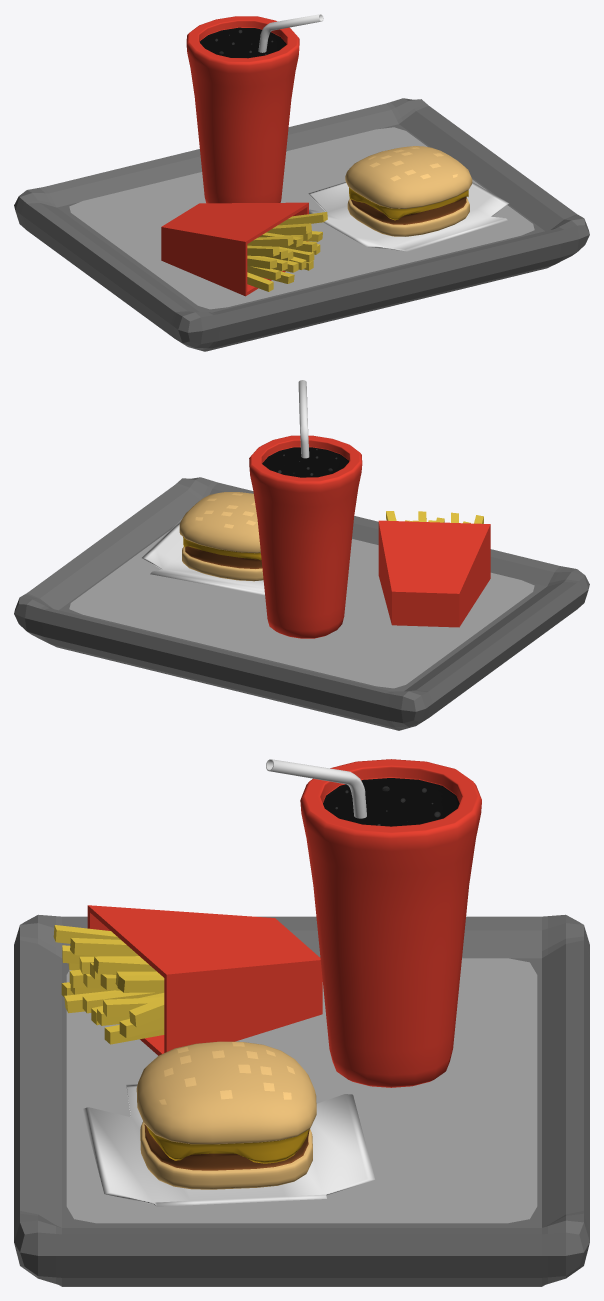
File: FastFood.fbx
The picture shows the model from 3 angles, top to bottom: view 1: azimuth 30°, elevation 25°; view 2: azimuth 150°, elevation 25°; view 3: azimuth 270°, elevation 25°; orthographic projection. The views are drawn at different scales.
Parts seen in each view (by area): view 1: Tray, Tray Paper, Cup, Fries, Burger, Burger Base; view 2: Tray, Tray Paper, Cup, Fries, Burger, Burger Base; view 3: Tray, Tray Paper, Cup, Fries, Burger, Burger Base.
Boxes of the visible parts, x1=… form: Tray: x1=14, y1=98, x2=589, y2=351; Tray Paper: x1=69, y1=127, x2=534, y2=309; Cup: x1=186, y1=14, x2=323, y2=203; Fries: x1=161, y1=202, x2=327, y2=296; Burger: x1=345, y1=146, x2=472, y2=236; Burger Base: x1=308, y1=181, x2=508, y2=251; Tray: x1=14, y1=477, x2=589, y2=730; Tray Paper: x1=69, y1=531, x2=534, y2=688; Cup: x1=249, y1=380, x2=362, y2=638; Fries: x1=378, y1=511, x2=490, y2=627; Burger: x1=179, y1=492, x2=263, y2=581; Burger Base: x1=142, y1=518, x2=264, y2=595; Tray: x1=14, y1=914, x2=589, y2=1286; Tray Paper: x1=66, y1=958, x2=537, y2=1223; Cup: x1=266, y1=759, x2=481, y2=1087; Fries: x1=53, y1=905, x2=322, y2=1055; Burger: x1=136, y1=1041, x2=316, y2=1189; Burger Base: x1=82, y1=1084, x2=374, y2=1206.
Size of the model in its own units: 162 by 92.79 by 122.
